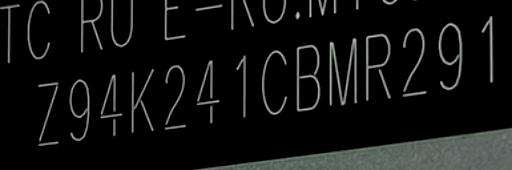letter: (324, 34, 364, 108), (430, 19, 468, 93), (396, 26, 432, 99), (124, 64, 158, 137), (256, 45, 290, 115), (470, 12, 500, 85), (362, 30, 392, 103), (292, 41, 322, 114), (161, 60, 191, 133), (223, 50, 253, 120), (36, 79, 64, 149), (196, 56, 222, 126), (96, 70, 122, 140), (68, 75, 94, 141)
